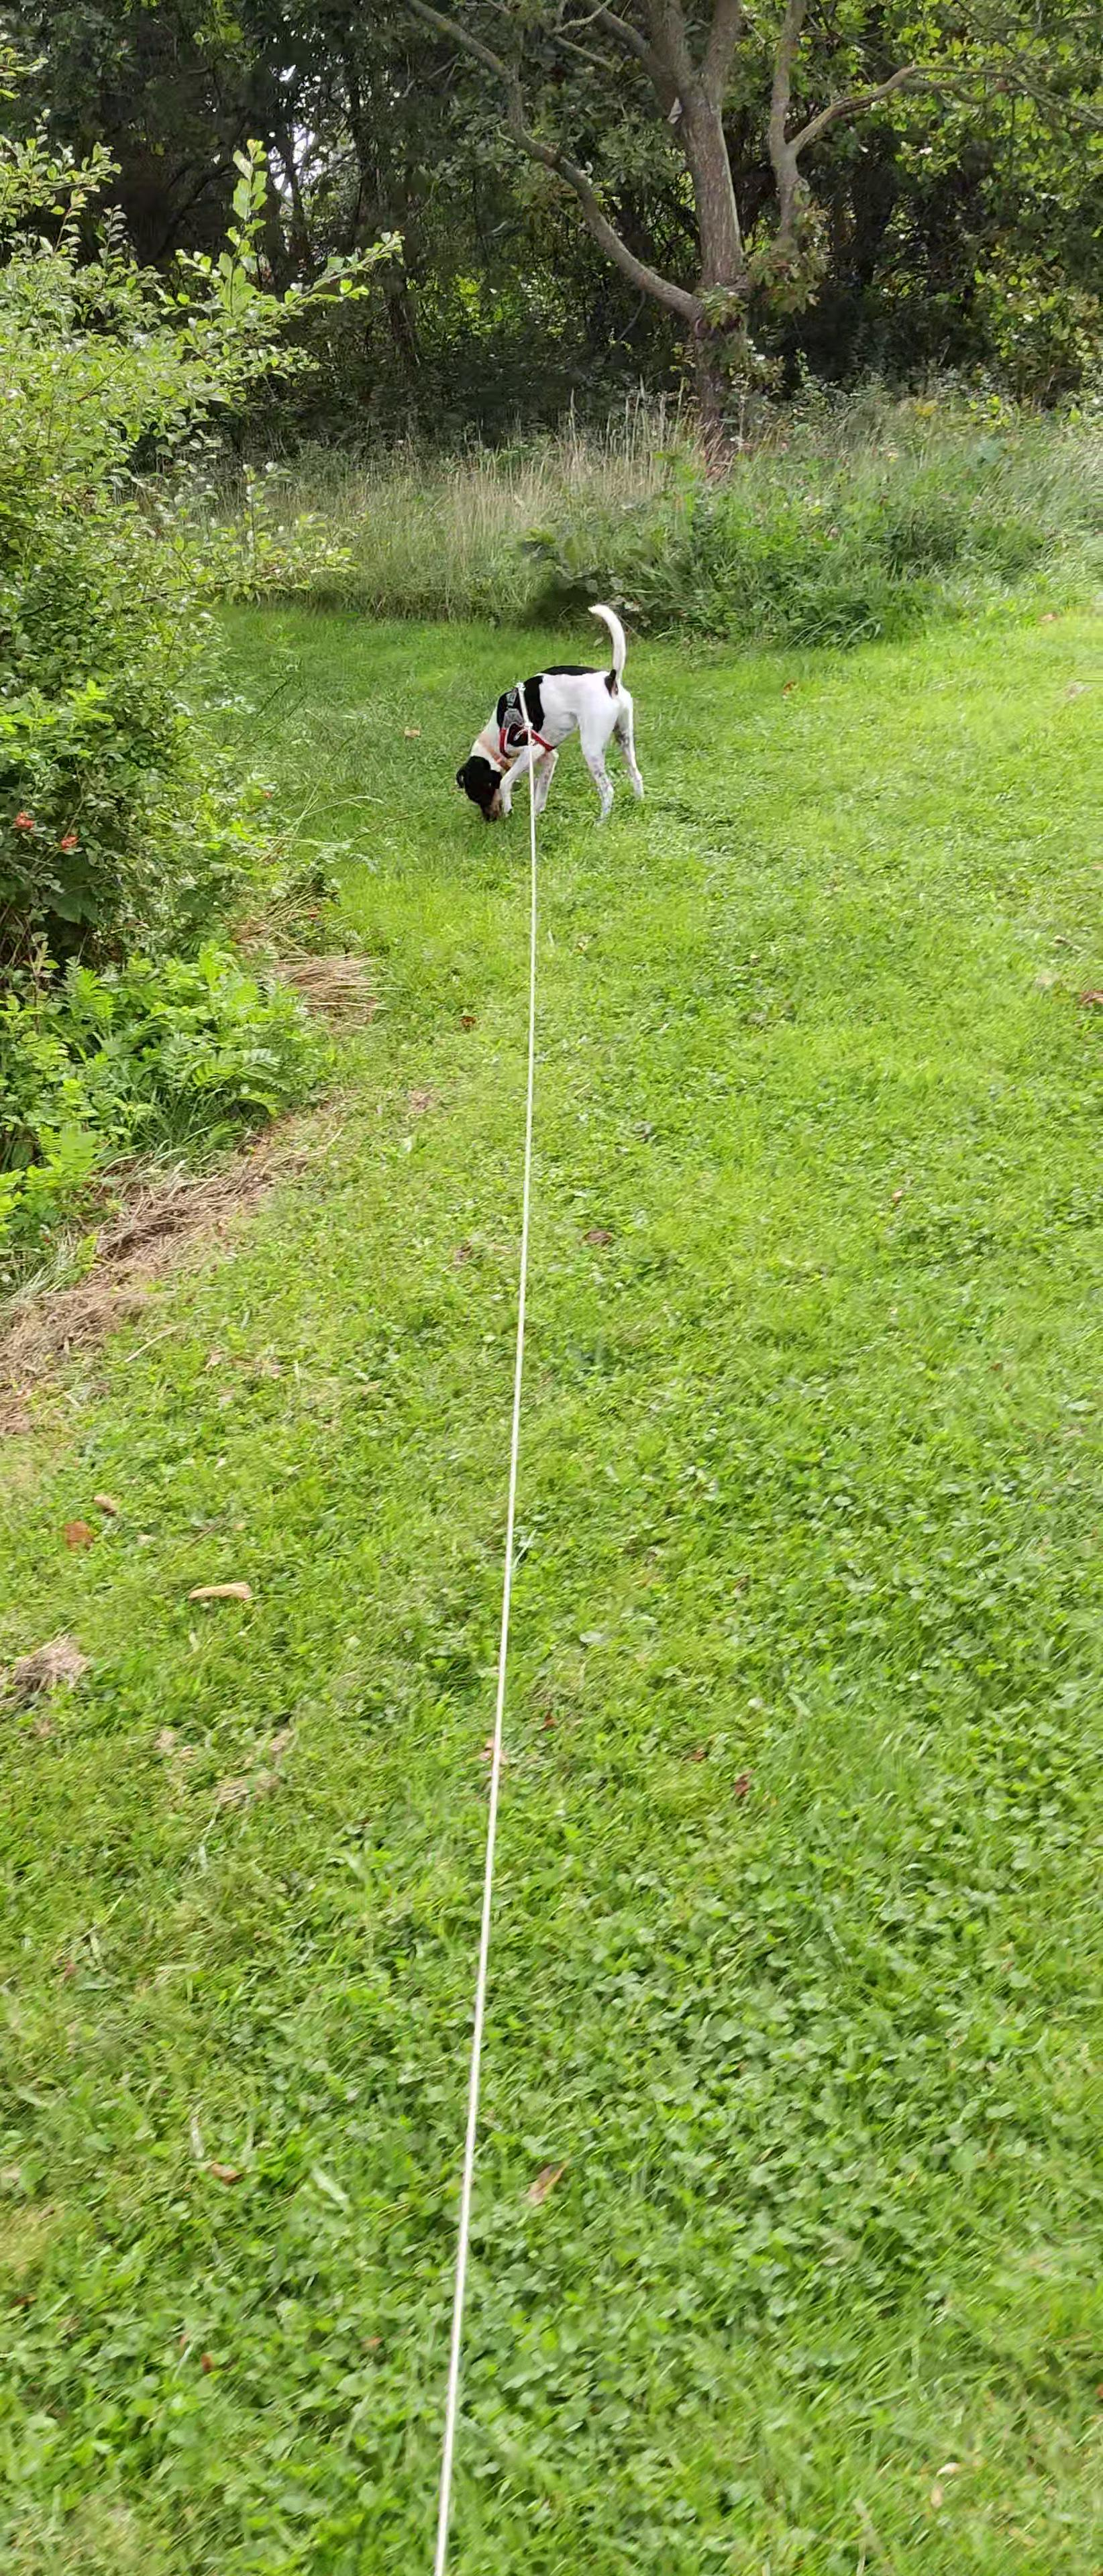Dog: (450, 600, 651, 831)
